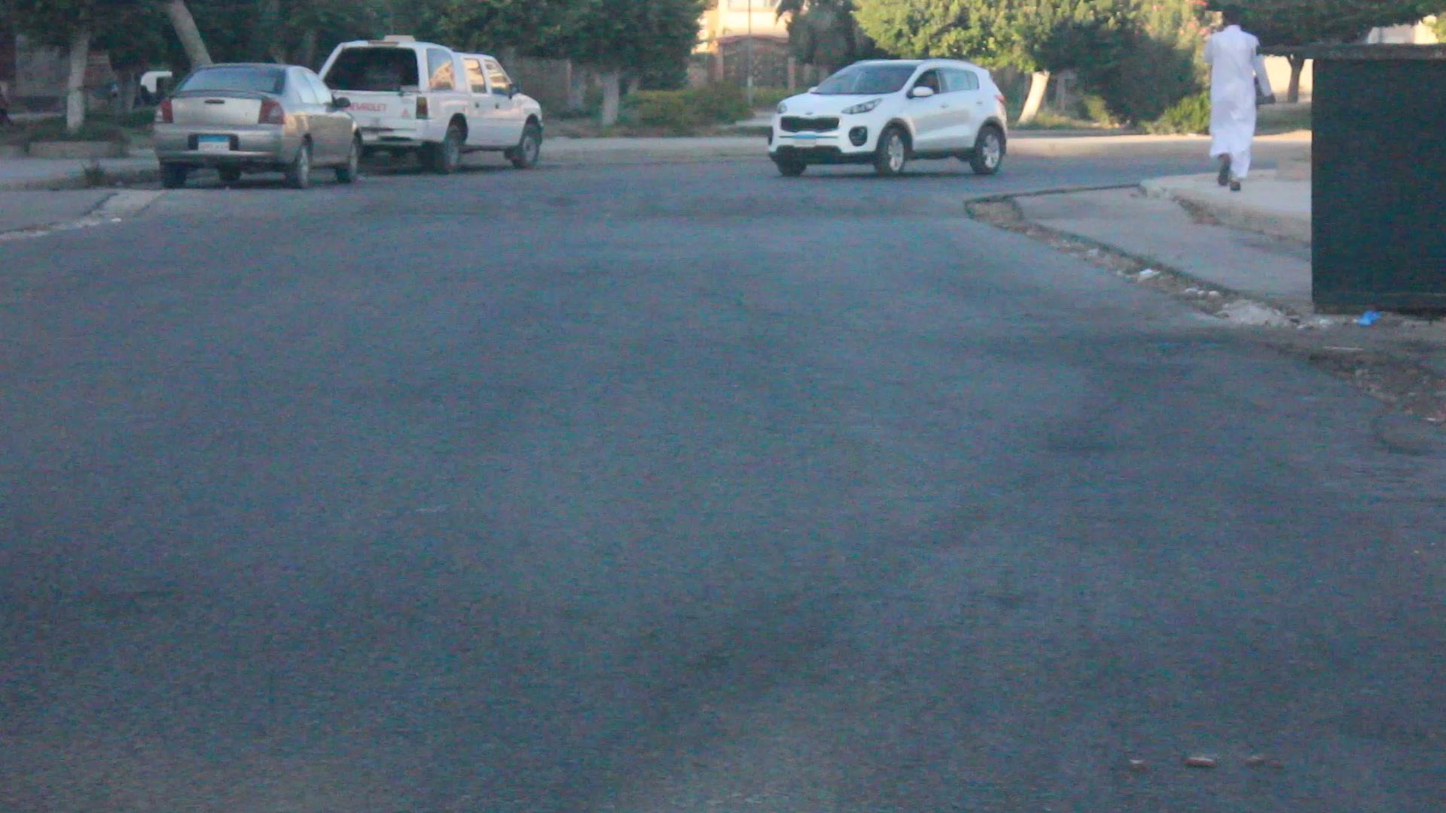Bump: (119, 177, 958, 220)
